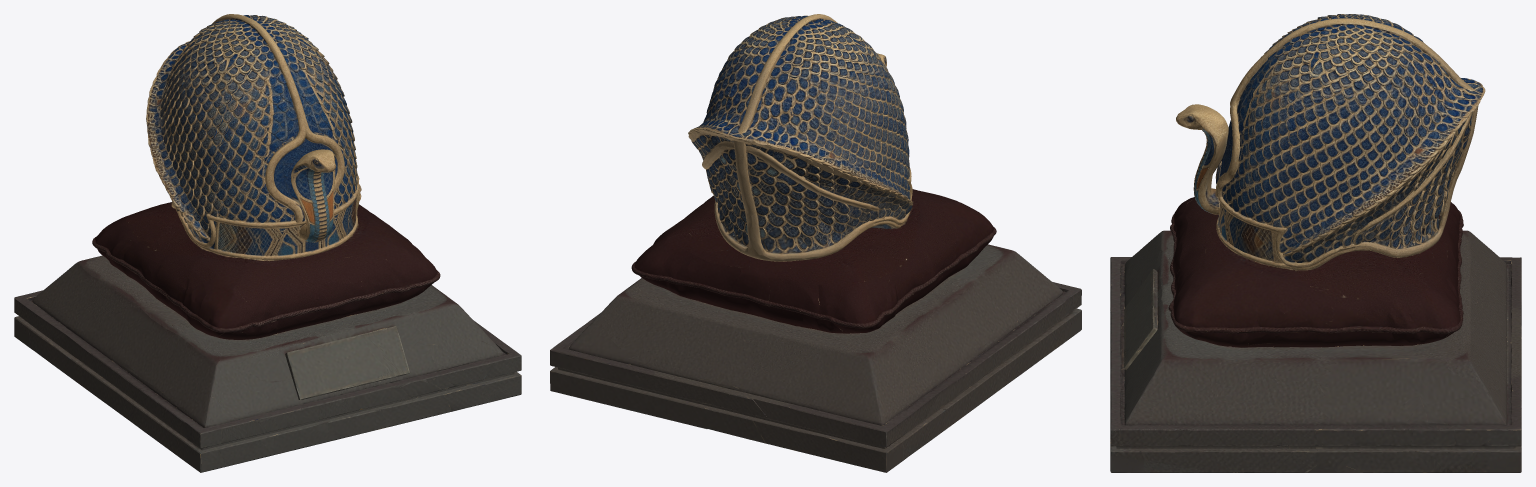
File: reception_artifact.glb
3 views of the same model, side by side, from view 1: azimuth 30°, elevation 25°; view 2: azimuth 150°, elevation 25°; view 3: azimuth 270°, elevation 25° (orthographic). The views are drawn at different scales.
Visible parts, largest first — view 1: mesh_node; view 2: mesh_node; view 3: mesh_node.
Part boxes in pixels (x1,y1,x2,y2): mesh_node: [14, 14, 521, 472]; mesh_node: [550, 14, 1081, 472]; mesh_node: [1110, 14, 1521, 472].
Size of the model in its own units: 1.9 by 1.89 by 1.91.
Materials: 1 (1 with a texture image).
